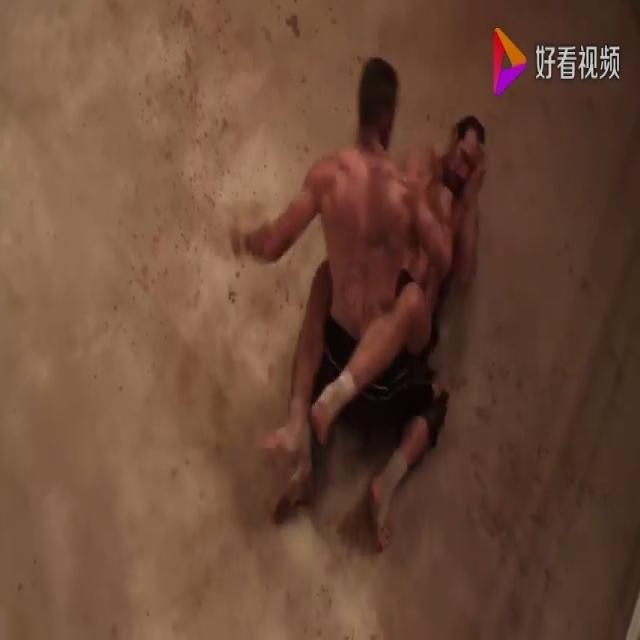fight: (199, 35, 502, 580)
